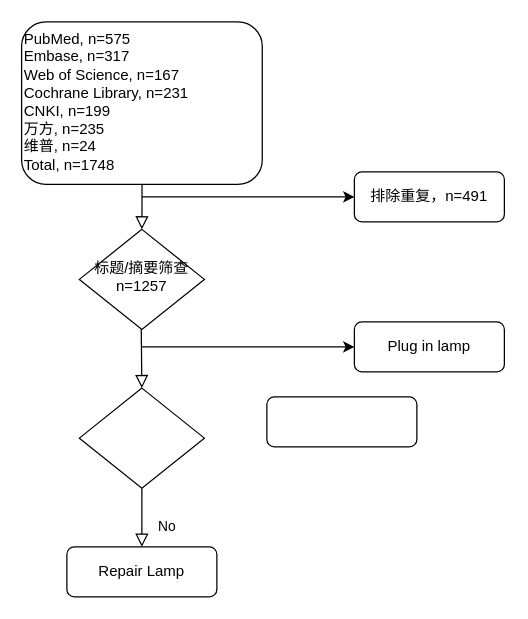
Some shapes in this 528 by 619 pixel diagram are drawn without their labels. The shapes that lost their labels are listed below. From the top down, each one's box as (x1, y1, x2, y2) in pixels, then its label:
(78, 387, 204, 488): Bulb burned out?
(266, 396, 417, 447): Replace Bulb
